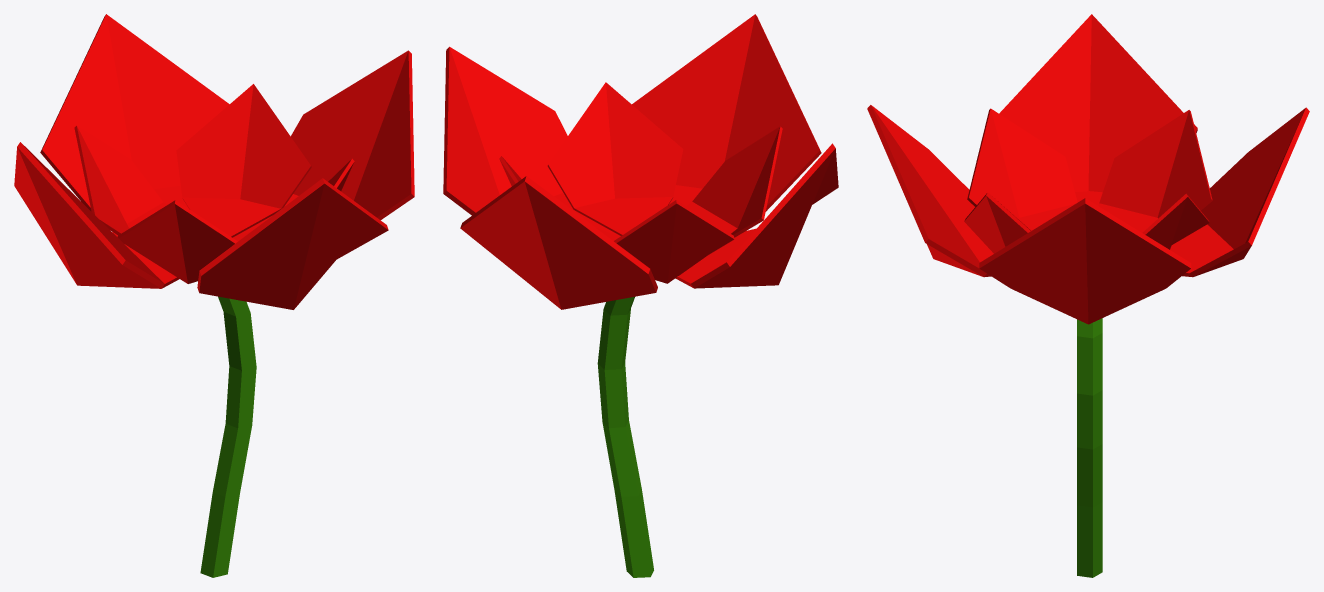
File: fleur.fbx
3 views of the same model, side by side, from view 1: azimuth 30°, elevation 25°; view 2: azimuth 150°, elevation 25°; view 3: azimuth 270°, elevation 25° (orthographic). The views are drawn at different scales.
Parts seen in each view (by area): view 1: Plane.008, Cylinder.002; view 2: Plane.008, Cylinder.002; view 3: Plane.008, Cylinder.002.
Boxes of the visible parts, x1,y1,x2,y2 form: Plane.008: (14, 14, 414, 309); Cylinder.002: (200, 296, 256, 577); Plane.008: (443, 14, 838, 309); Cylinder.002: (597, 296, 653, 577); Plane.008: (867, 14, 1309, 324); Cylinder.002: (1077, 318, 1102, 577).
Size of the model in its own units: 449 by 522 by 449.
1 material, 1 textured.
